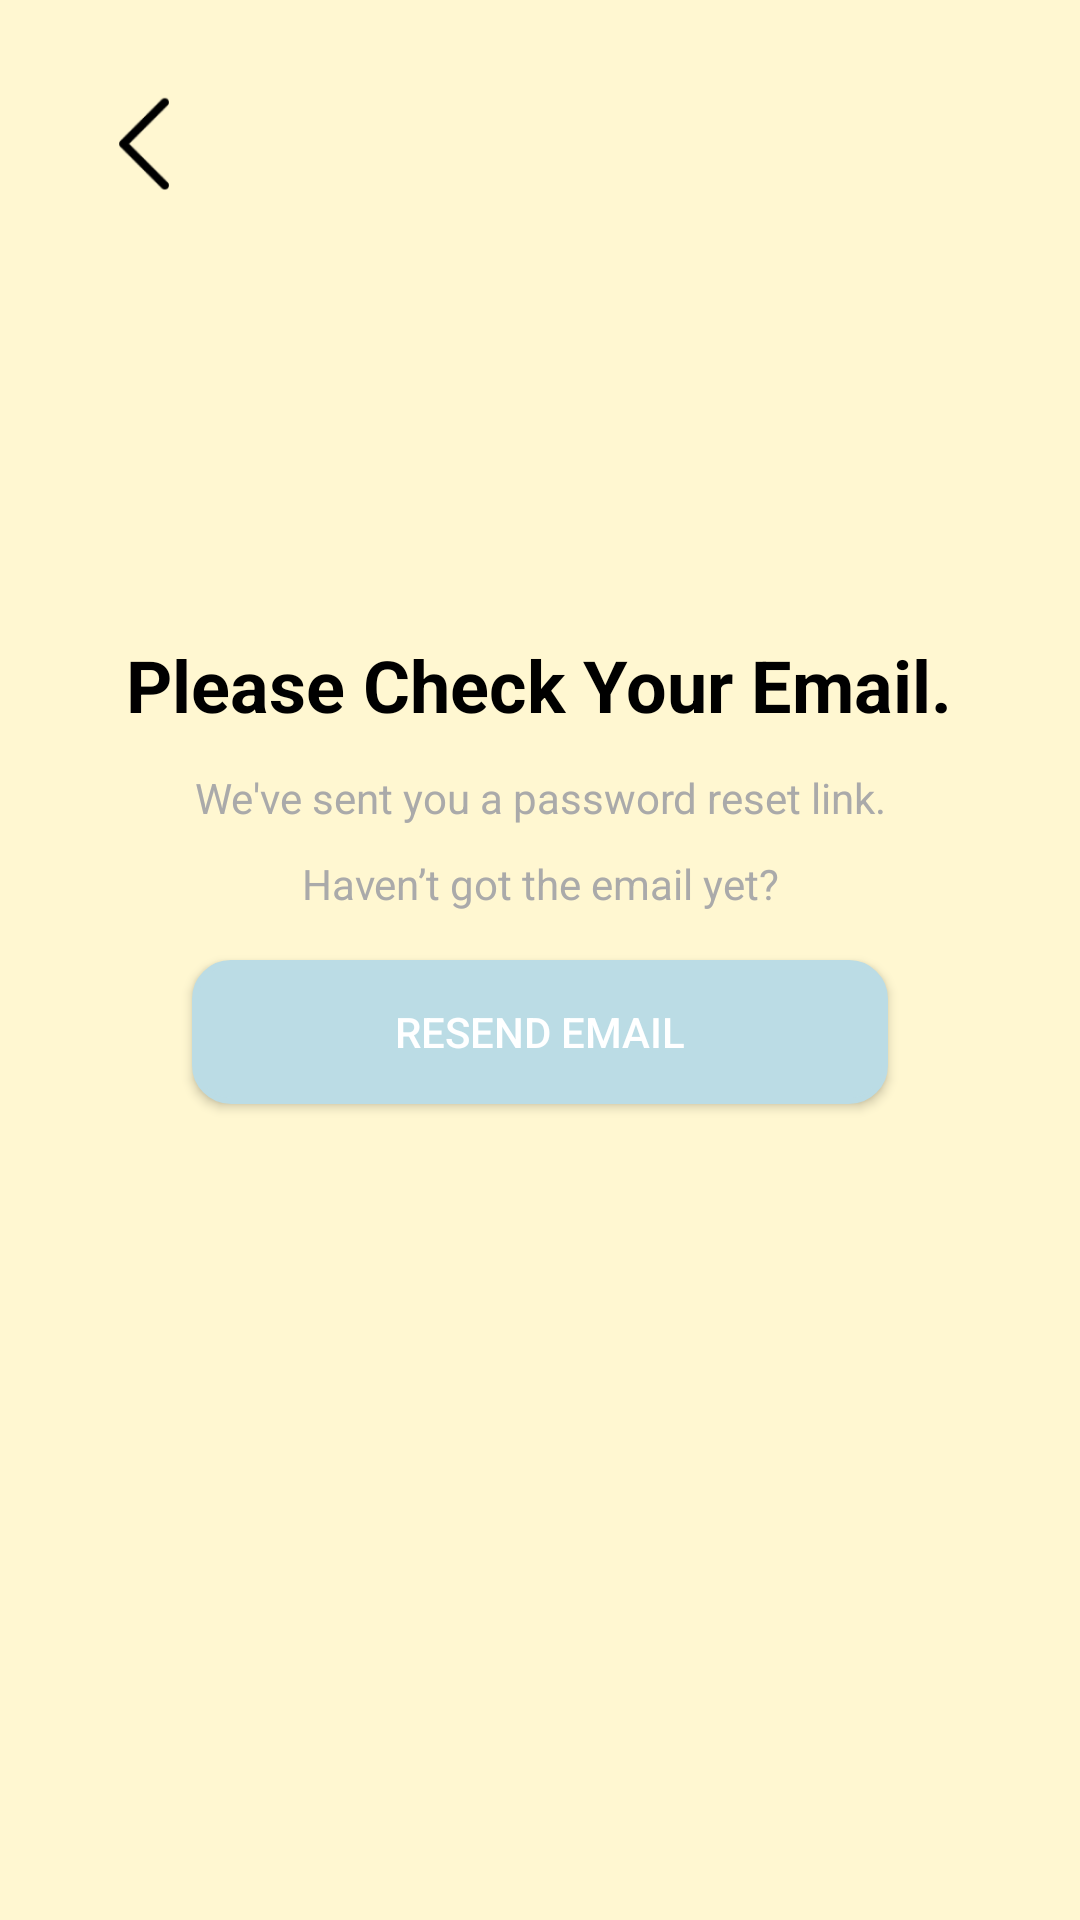

Icons on this 1080x1920 Android screen, each with its box as rect(x1, y1, x2, y2):
Back: rect(119, 97, 169, 190)
